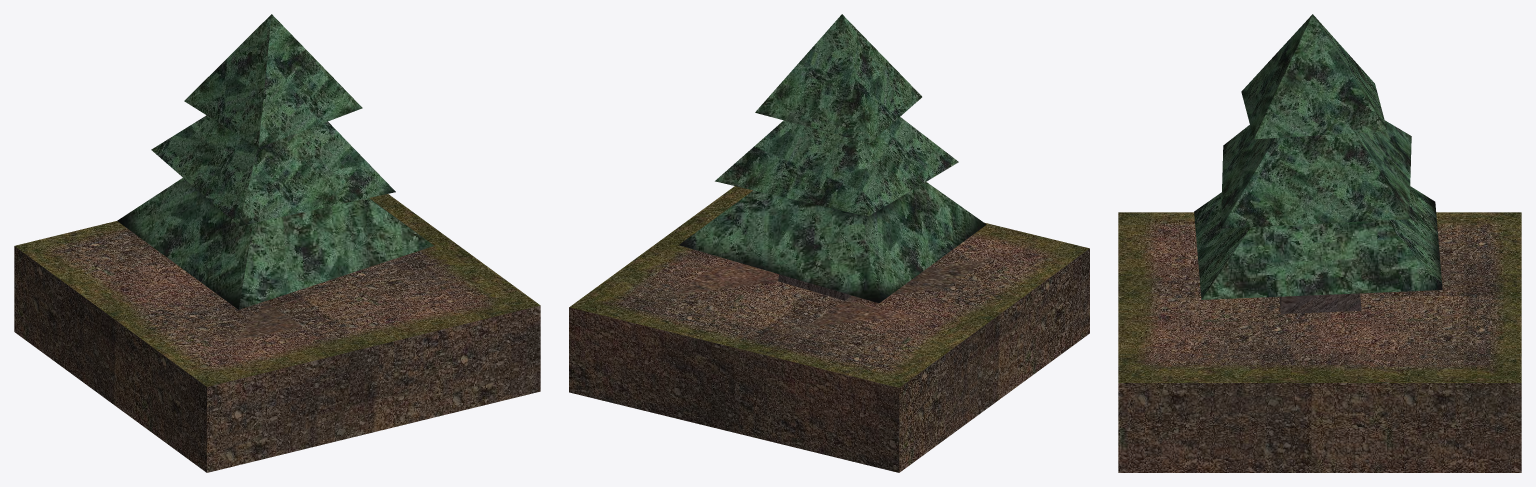
Rendered from SimpleTree5.glb.
3 renders of one model, left to right at view 1: azimuth 30°, elevation 25°; view 2: azimuth 150°, elevation 25°; view 3: azimuth 270°, elevation 25°, orthographic. The views are drawn at different scales.
Visible parts, largest first — view 1: Cube; view 2: Cube; view 3: Cube.
Boxes of the visible parts, x1,y1,x2,y2 form: Cube: (14,14,540,472); Cube: (569,14,1089,472); Cube: (1118,14,1521,472).
Size of the model in its own units: 2 by 2.02 by 2.
Materials: 1 (1 with a texture image).
